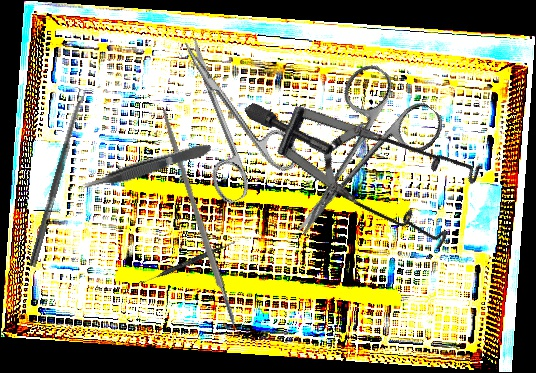Iris Scissors: (256, 57, 450, 263), (151, 19, 306, 207)
Scalpel Handle: (158, 107, 238, 328)
Spatula Surgical: (138, 238, 236, 288)
Speculum: (243, 18, 506, 297)
Surgical Spoon: (28, 88, 88, 268)
Tissue Forceps: (78, 140, 214, 195)
